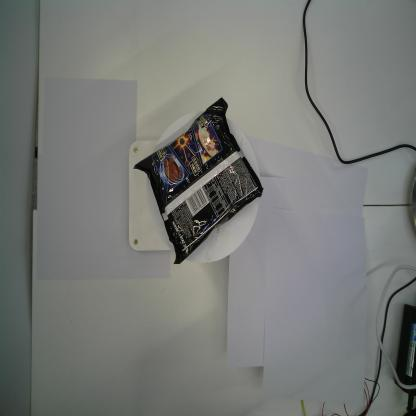Instant Noodles: (132, 94, 264, 266)
